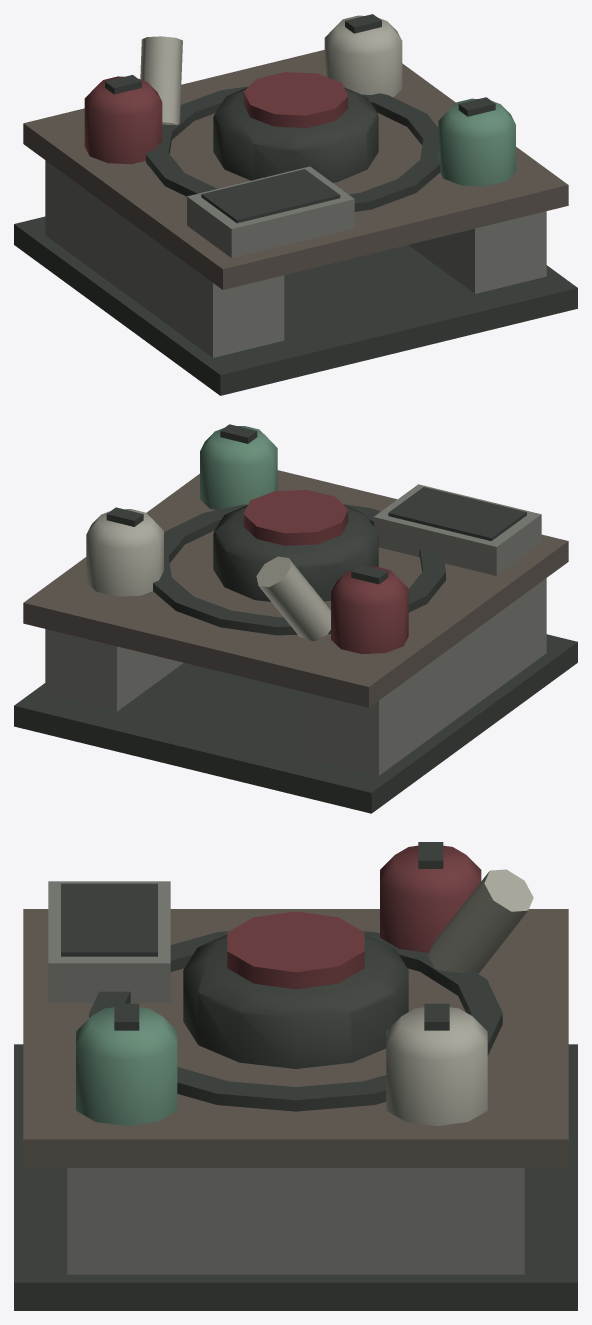
File: serum_lab.obj
The picture shows the model from 3 angles, top to bottom: view 1: azimuth 30°, elevation 25°; view 2: azimuth 150°, elevation 25°; view 3: azimuth 270°, elevation 25°; orthographic projection. The views are drawn at different scales.
Parts seen in each view (by area): view 1: source_component_003, source_component_000, source_component_001, source_component_005, source_component_002, source_component_004, source_component_013, source_component_011, source_component_007, source_component_009, source_component_006, source_component_014 (+4 smaller); view 2: source_component_003, source_component_000, source_component_001, source_component_005, source_component_002, source_component_004, source_component_013, source_component_007, source_component_009, source_component_011, source_component_006, source_component_014 (+4 smaller); view 3: source_component_003, source_component_002, source_component_000, source_component_005, source_component_009, source_component_011, source_component_004, source_component_006, source_component_013, source_component_007, source_component_014, source_component_015 (+3 smaller).
Part boxes in pixels (<box>): source_component_003: <box>23,50,568,289</box>; source_component_000: <box>14,216,577,395</box>; source_component_001: <box>45,160,284,357</box>; source_component_005: <box>213,87,378,182</box>; source_component_002: <box>408,211,546,293</box>; source_component_004: <box>146,86,440,211</box>; source_component_013: <box>187,166,354,257</box>; source_component_011: <box>438,98,515,186</box>; source_component_007: <box>84,76,162,164</box>; source_component_009: <box>324,15,402,97</box>; source_component_006: <box>243,72,348,127</box>; source_component_014: <box>201,169,340,223</box>; source_component_003: <box>23,470,568,707</box>; source_component_000: <box>14,634,577,813</box>; source_component_001: <box>307,578,546,775</box>; source_component_005: <box>213,505,378,601</box>; source_component_002: <box>45,629,183,711</box>; source_component_004: <box>153,504,445,635</box>; source_component_013: <box>373,484,541,575</box>; source_component_007: <box>331,566,408,653</box>; source_component_009: <box>86,509,163,596</box>; source_component_011: <box>200,426,277,509</box>; source_component_006: <box>243,490,348,545</box>; source_component_014: <box>388,487,526,541</box>; source_component_003: <box>23,909,568,1167</box>; source_component_002: <box>67,1168,524,1274</box>; source_component_000: <box>14,1044,577,1310</box>; source_component_005: <box>183,935,408,1068</box>; source_component_009: <box>386,1007,487,1125</box>; source_component_011: <box>76,1007,177,1126</box>; source_component_004: <box>89,931,502,1111</box>; source_component_006: <box>227,911,364,989</box>; source_component_013: <box>48,881,170,1002</box>; source_component_007: <box>380,845,481,952</box>; source_component_014: <box>61,883,157,956</box>; source_component_015: <box>428,869,533,973</box>.
Bounding box in the file's own units: 1.8 × 0.9815 × 1.8.
